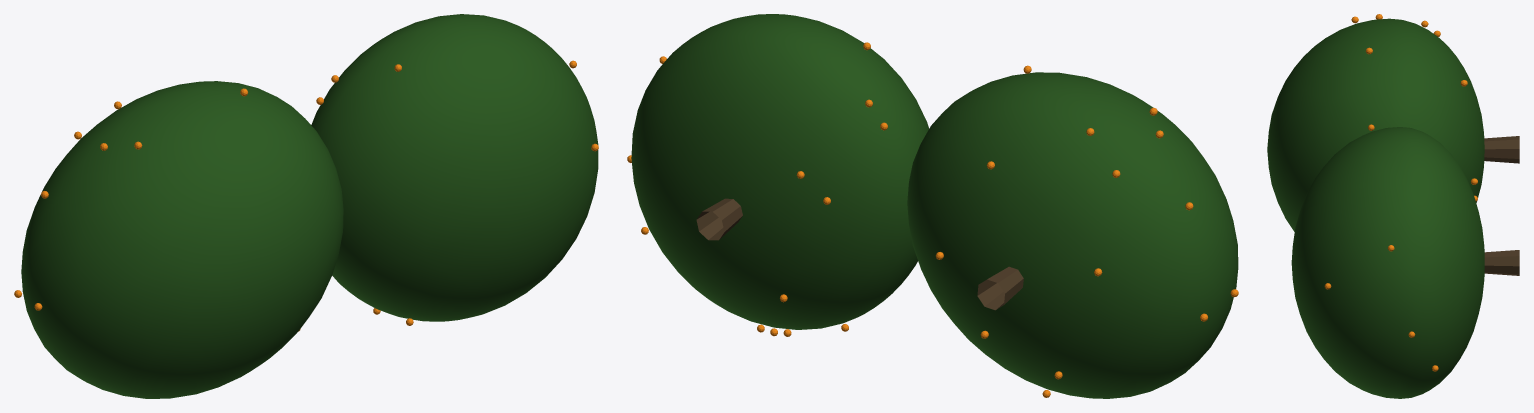
File: citrus_plain2_a_fruit.obj
3 views of the same model, side by side, from view 1: azimuth 30°, elevation 25°; view 2: azimuth 150°, elevation 25°; view 3: azimuth 270°, elevation 25° (orthographic). The views are drawn at different scales.
Visible parts, largest first — view 1: canopy, fruit; view 2: canopy, trunk, fruit; view 3: canopy, trunk, fruit.
Boxes of the visible parts, box(x1,y1,x2,y2) form: canopy: box(21, 14, 598, 398); fruit: box(14, 60, 598, 331); canopy: box(631, 14, 1238, 398); trunk: box(696, 198, 1023, 310); fruit: box(627, 42, 1238, 397); canopy: box(1267, 18, 1484, 398); trunk: box(1484, 136, 1519, 275); fruit: box(1324, 14, 1477, 371).
Size of the model in its own units: 6.27 by 3.07 by 2.82.
